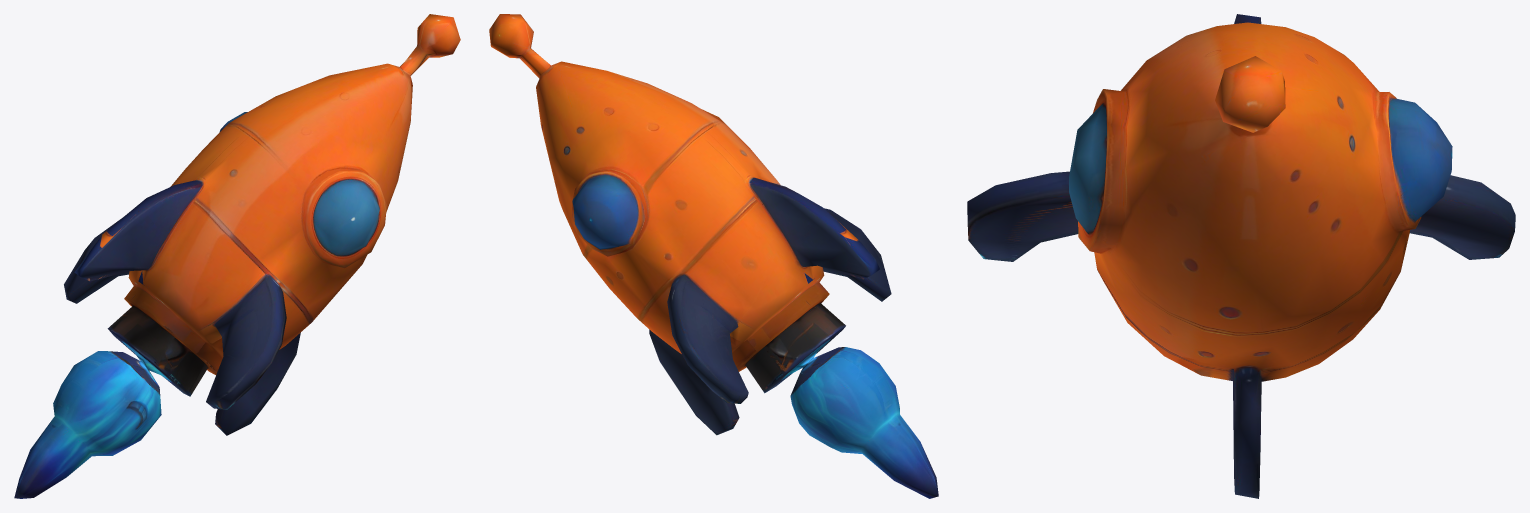
File: Rocket_Blastoff_0515193016_texture.fbx
3 views of the same model, side by side, from view 1: azimuth 30°, elevation 25°; view 2: azimuth 150°, elevation 25°; view 3: azimuth 270°, elevation 25° (orthographic). The views are drawn at different scales.
Visible parts, largest first — view 1: Mesh1; view 2: Mesh1; view 3: Mesh1.
Part boxes in pixels (x1,y1,x2,y2): Mesh1: [14, 14, 460, 498]; Mesh1: [489, 14, 938, 498]; Mesh1: [967, 14, 1515, 498].
Size of the model in its own units: 200 by 163 by 131.
1 material, 1 textured.
